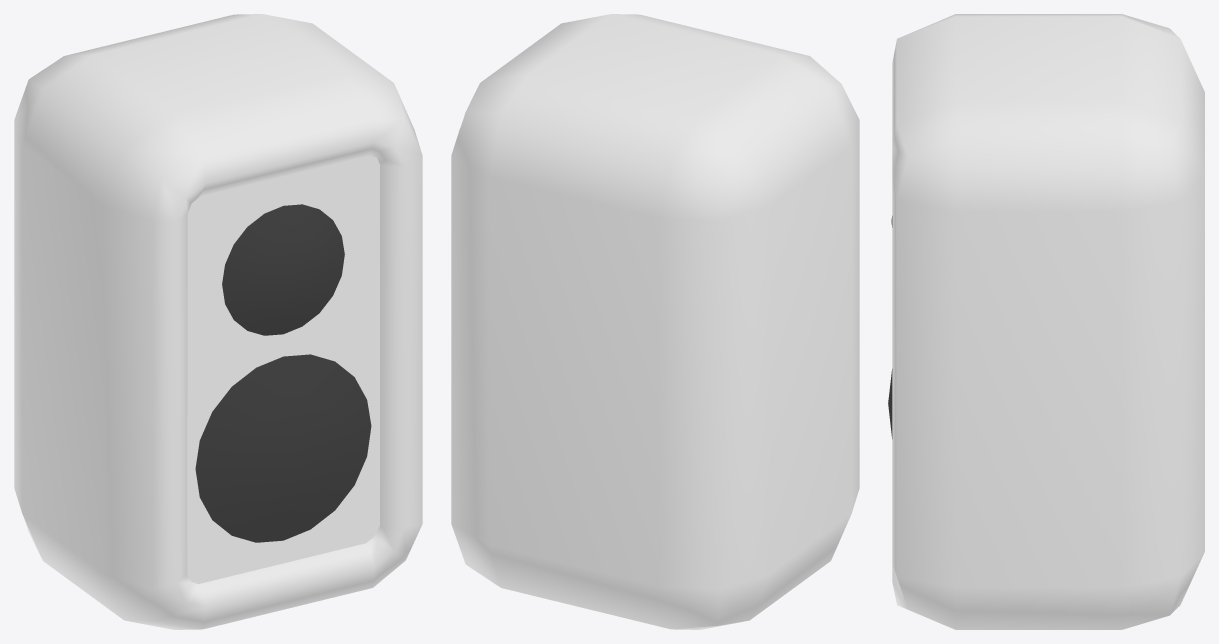
File: speaker.glb
3 views of the same model, side by side, from view 1: azimuth 30°, elevation 25°; view 2: azimuth 150°, elevation 25°; view 3: azimuth 270°, elevation 25° (orthographic). The views are drawn at different scales.
Parts seen in each view (by area): view 1: Speaker; view 2: Speaker; view 3: Speaker.
Part boxes in pixels (<box>): Speaker: <box>14,14,422,629</box>; Speaker: <box>451,14,859,629</box>; Speaker: <box>888,14,1204,629</box>.
Bounding box in the file's own units: 0.1906 × 0.3016 × 0.1647.
1 material, 1 textured.
